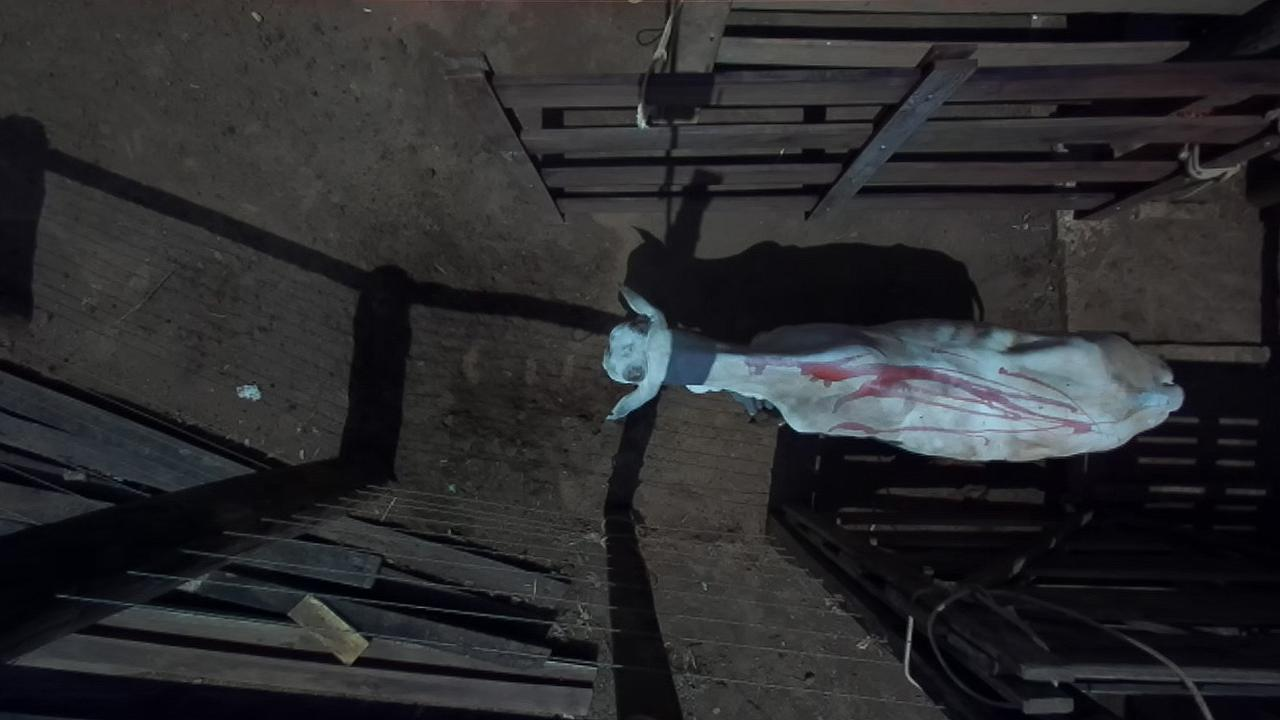cattle: (580, 272, 1197, 470)
